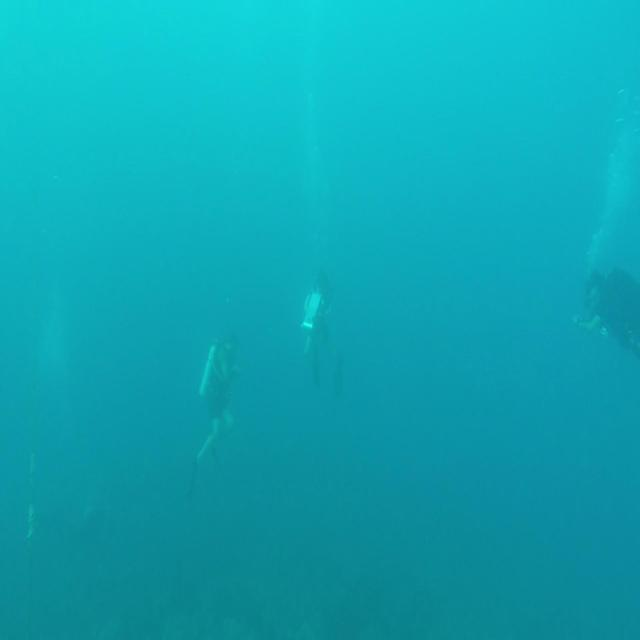human: (187, 326, 239, 496), (572, 264, 639, 358), (300, 270, 343, 394)
